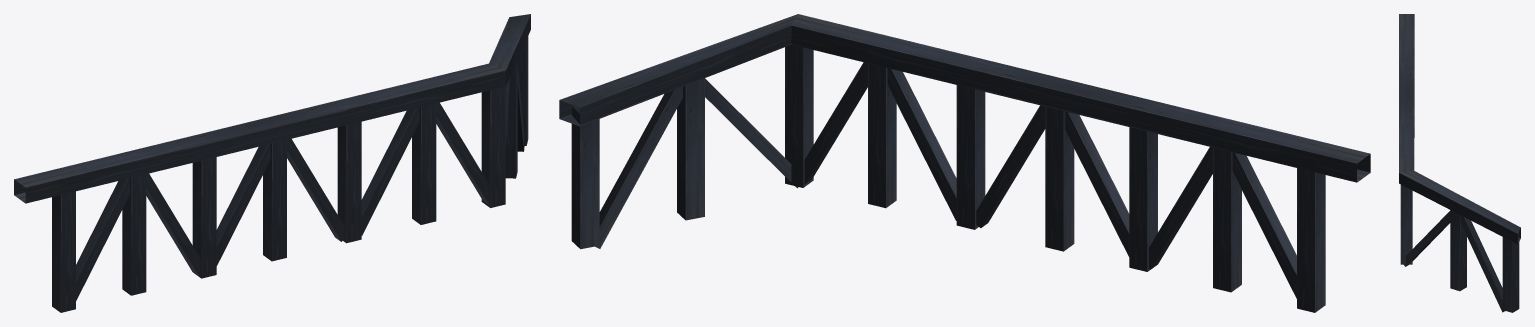
File: HuBian_NightLangan_fbx.FBX
The picture shows the model from 3 angles, left to right: view 1: azimuth 30°, elevation 25°; view 2: azimuth 150°, elevation 25°; view 3: azimuth 270°, elevation 25°; orthographic projection. The views are drawn at different scales.
Parts seen in each view (by area): view 1: Box057; view 2: Box057; view 3: Box057.
Boxes of the visible parts, box(x1,y1,x2,y2) form: Box057: box(14, 14, 530, 312); Box057: box(559, 14, 1370, 312); Box057: box(1399, 14, 1520, 312).
Bounding box in the file's own units: 4.44 × 1.15 × 1.17.
